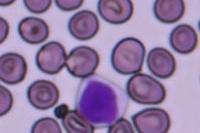L: (75, 73, 128, 128)
